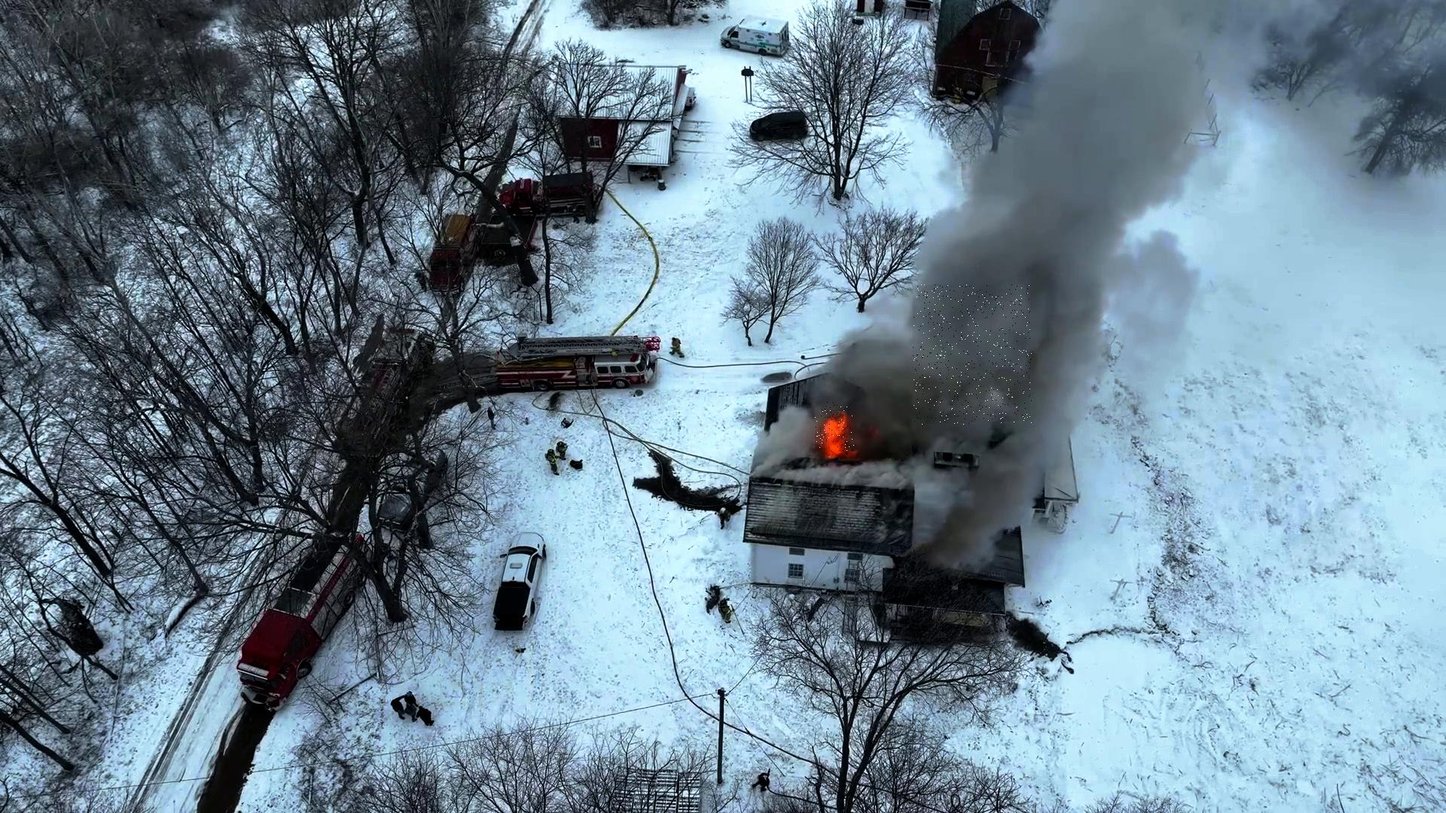fire: (816, 401, 856, 452)
smoke: (913, 285, 1032, 425)
